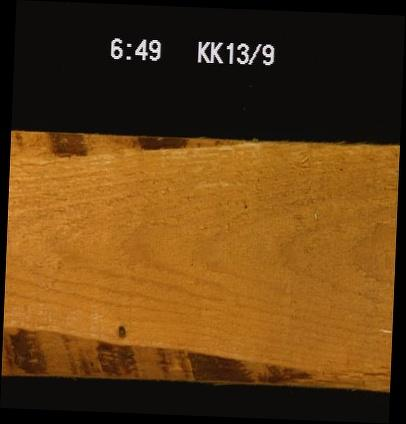small_knot: (112, 322, 128, 339)
wave: (2, 332, 390, 382), (10, 133, 259, 165)
